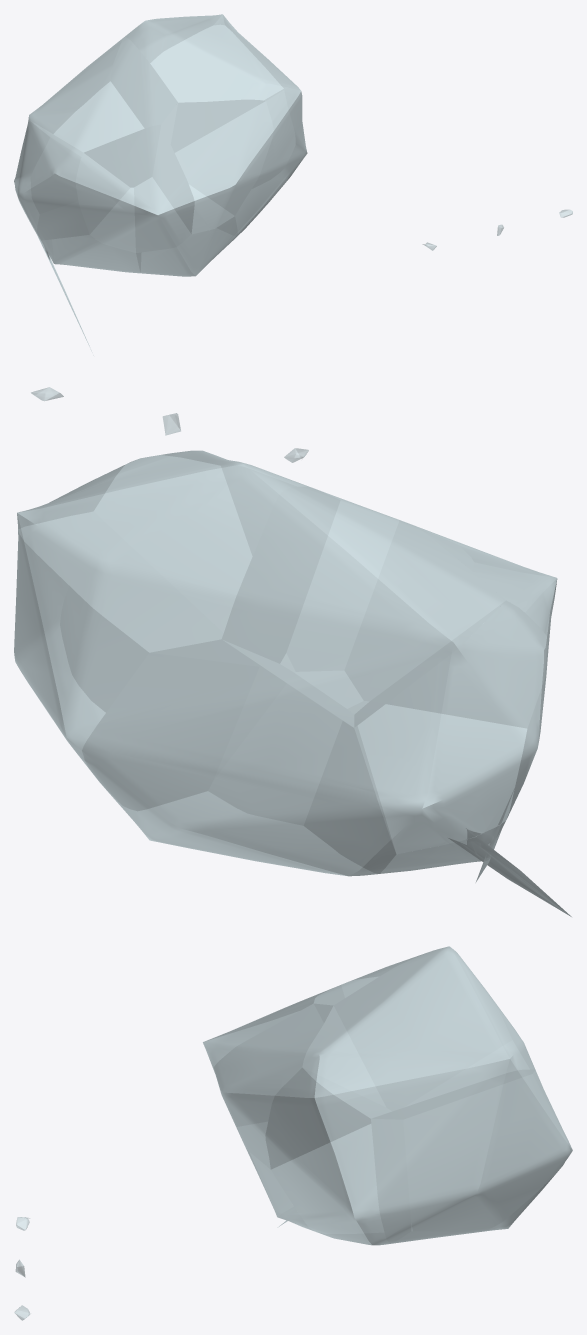
Rendered from block.glb.
3 views of the same model, one above another, from view 1: azimuth 30°, elevation 25°; view 2: azimuth 150°, elevation 25°; view 3: azimuth 270°, elevation 25° (orthographic). The views are drawn at different scales.
Visible parts, largest first — view 1: IceBlock, IceCell00, IceCell05, IceCell04, IceCell01, IceCell06, IceCell08, IceCell07, IceCell03; view 2: IceBlock, IceCell09, IceCell01, IceCell04, IceCell06, IceCell02, IceCell00, IceCell03; view 3: IceBlock, IceCell02, IceCell04, IceCell08, IceCell05, IceCell00, IceCell07, IceCell01.
Part boxes in pixels (x1=…): IceBlock: x1=14, y1=14, x2=307, y2=350; IceCell00: x1=75, y1=124, x2=194, y2=252; IceCell05: x1=161, y1=99, x2=273, y2=234; IceCell04: x1=125, y1=14, x2=293, y2=102; IceCell01: x1=29, y1=37, x2=177, y2=152; IceCell06: x1=14, y1=120, x2=89, y2=240; IceCell08: x1=235, y1=84, x2=306, y2=234; IceCell07: x1=136, y1=216, x2=237, y2=276; IceCell03: x1=38, y1=234, x2=140, y2=343; IceBlock: x1=14, y1=450, x2=569, y2=915; IceCell09: x1=82, y1=639, x2=396, y2=876; IceCell01: x1=222, y1=486, x2=505, y2=727; IceCell04: x1=17, y1=450, x2=310, y2=652; IceCell06: x1=354, y1=600, x2=547, y2=854; IceCell02: x1=14, y1=522, x2=149, y2=808; IceCell00: x1=415, y1=526, x2=556, y2=660; IceCell03: x1=380, y1=821, x2=571, y2=916; IceBlock: x1=203, y1=946, x2=572, y2=1245; IceCell02: x1=371, y1=1069, x2=572, y2=1243; IceCell04: x1=302, y1=946, x2=534, y2=1118; IceCell08: x1=265, y1=1068, x2=390, y2=1245; IceCell05: x1=213, y1=1003, x2=333, y2=1169; IceCell00: x1=203, y1=985, x2=340, y2=1073; IceCell07: x1=246, y1=1148, x2=313, y2=1230; IceCell01: x1=314, y1=953, x2=426, y2=1005.
Bounding box in the file's own units: 24.56 × 14.94 × 21.16.
